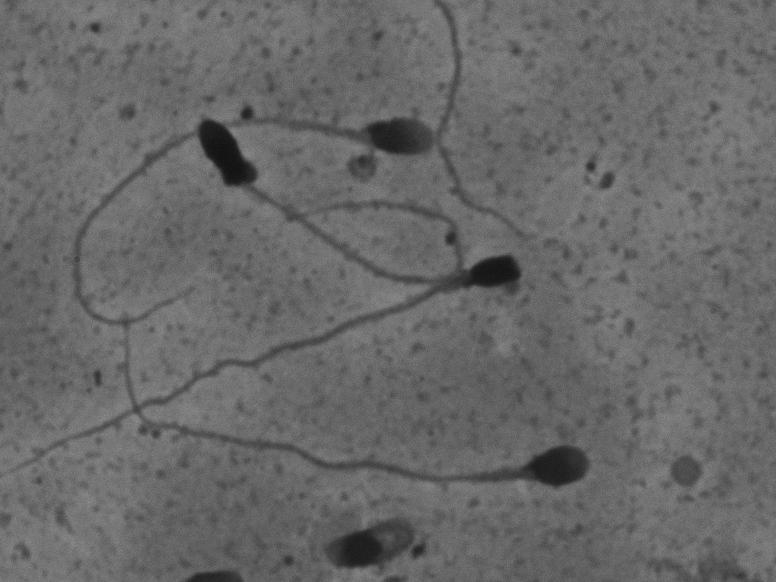Abnormal: (8, 242, 532, 492), (49, 103, 436, 340), (183, 109, 476, 292)
Normal: (109, 303, 602, 497)
